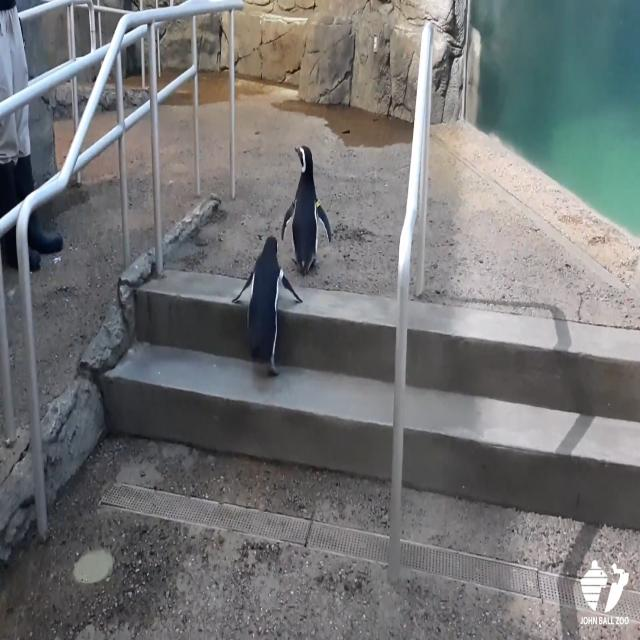penguin: (229, 234, 304, 378), (280, 143, 334, 278)
